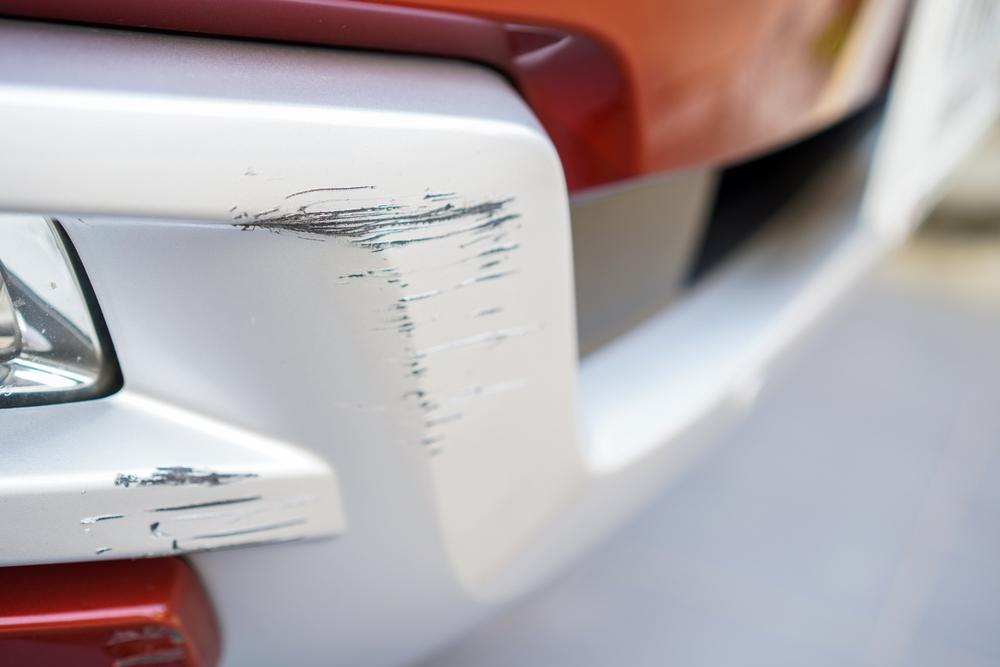scratch: (225, 178, 531, 459), (79, 457, 339, 559)
